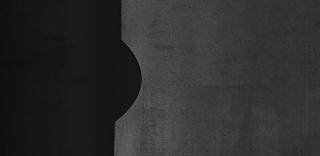welding line: (136, 74, 320, 92)
